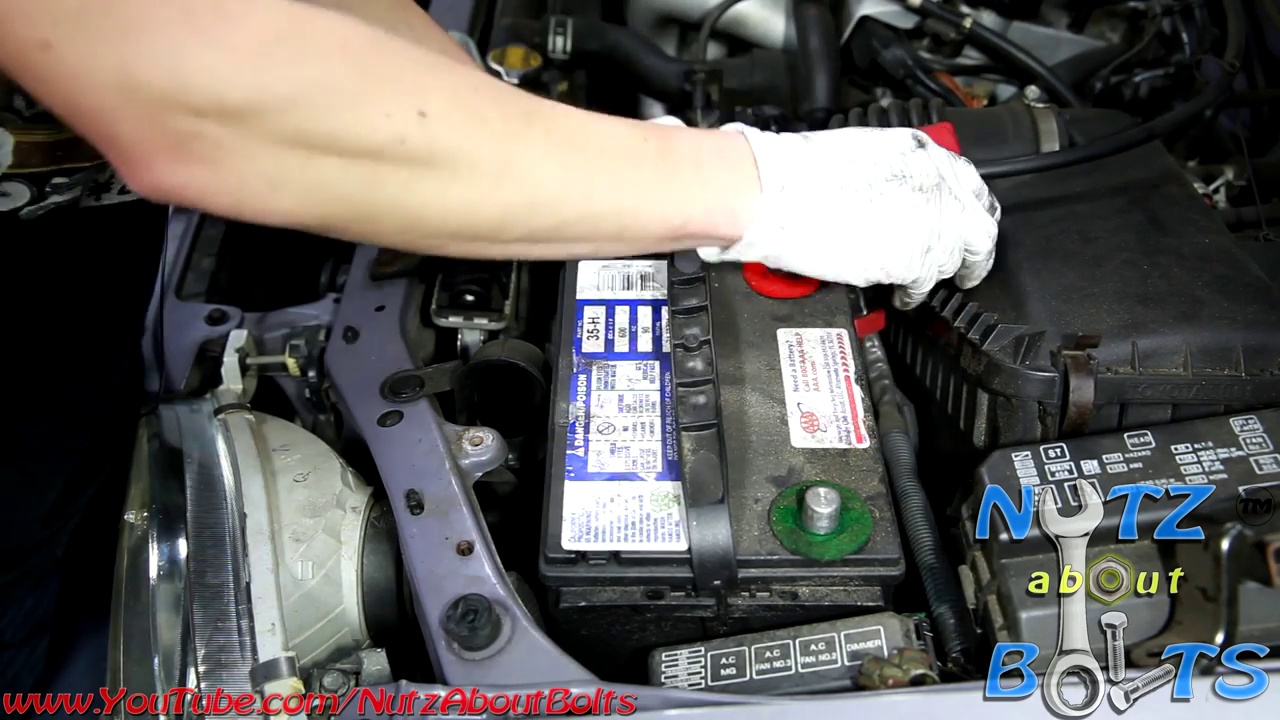battery: (548, 242, 929, 596)
neg_disconnected: (772, 468, 873, 563)
pos_touched: (725, 110, 1002, 321)
